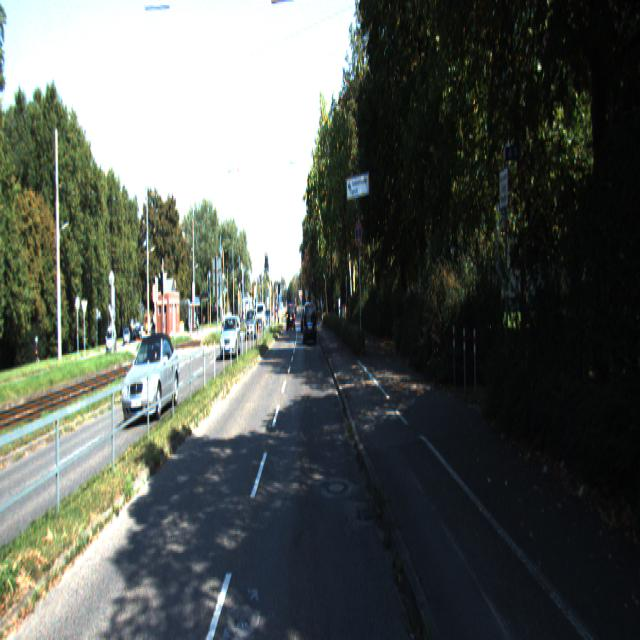Car: (121, 325, 181, 424), (220, 314, 241, 360), (304, 301, 318, 346)
